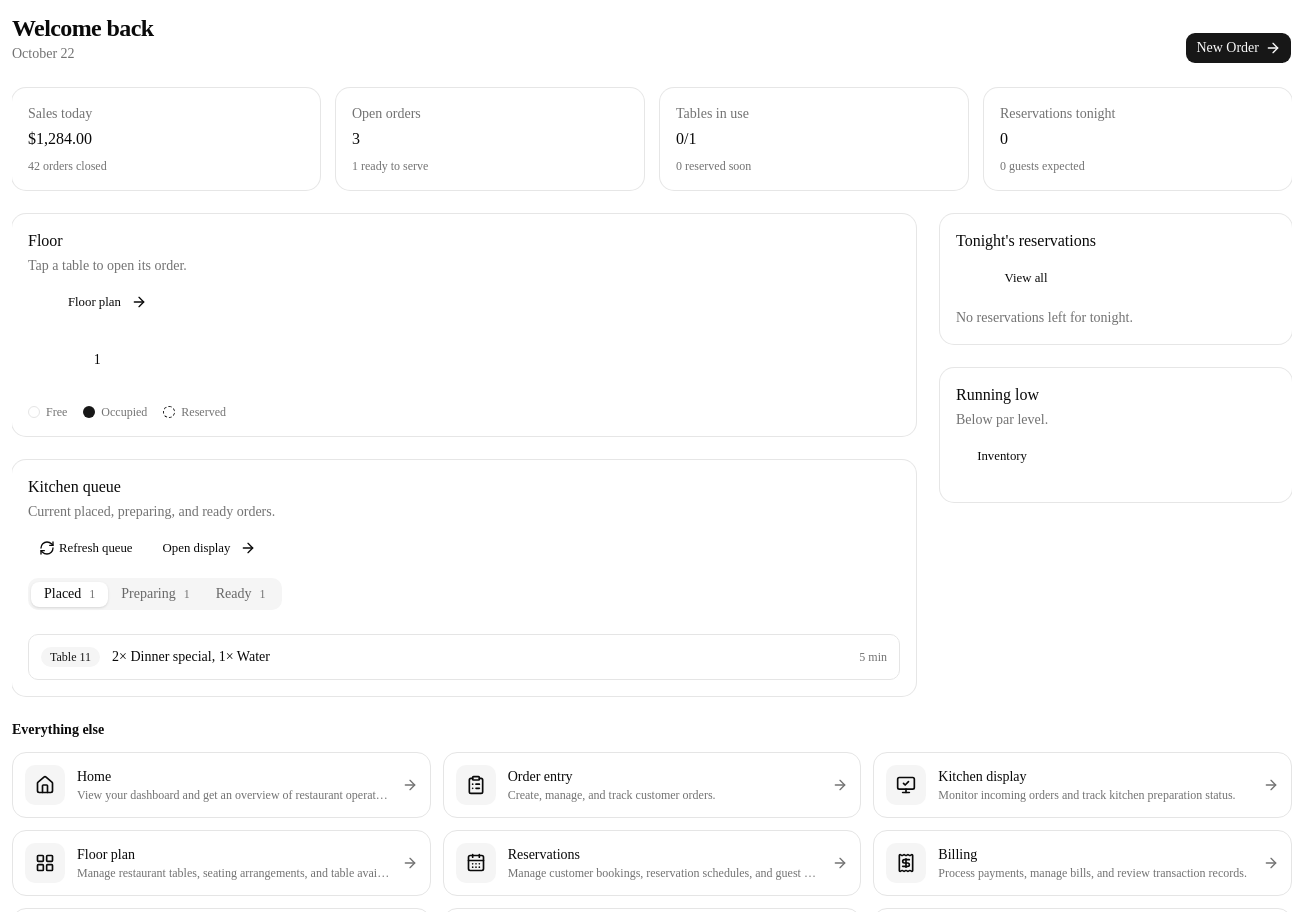
Test: loads actual tickets into Placed, Preparing, and Ready, with correct counts and item summaries
Check: the text "3" is shown, box 352,130 -> 360,147
Check: the icon "Table 11" is shown, box 41,647 -> 100,667
Click the tab "Preparing 1". click: (156, 594)
box: 108,582 -> 203,606
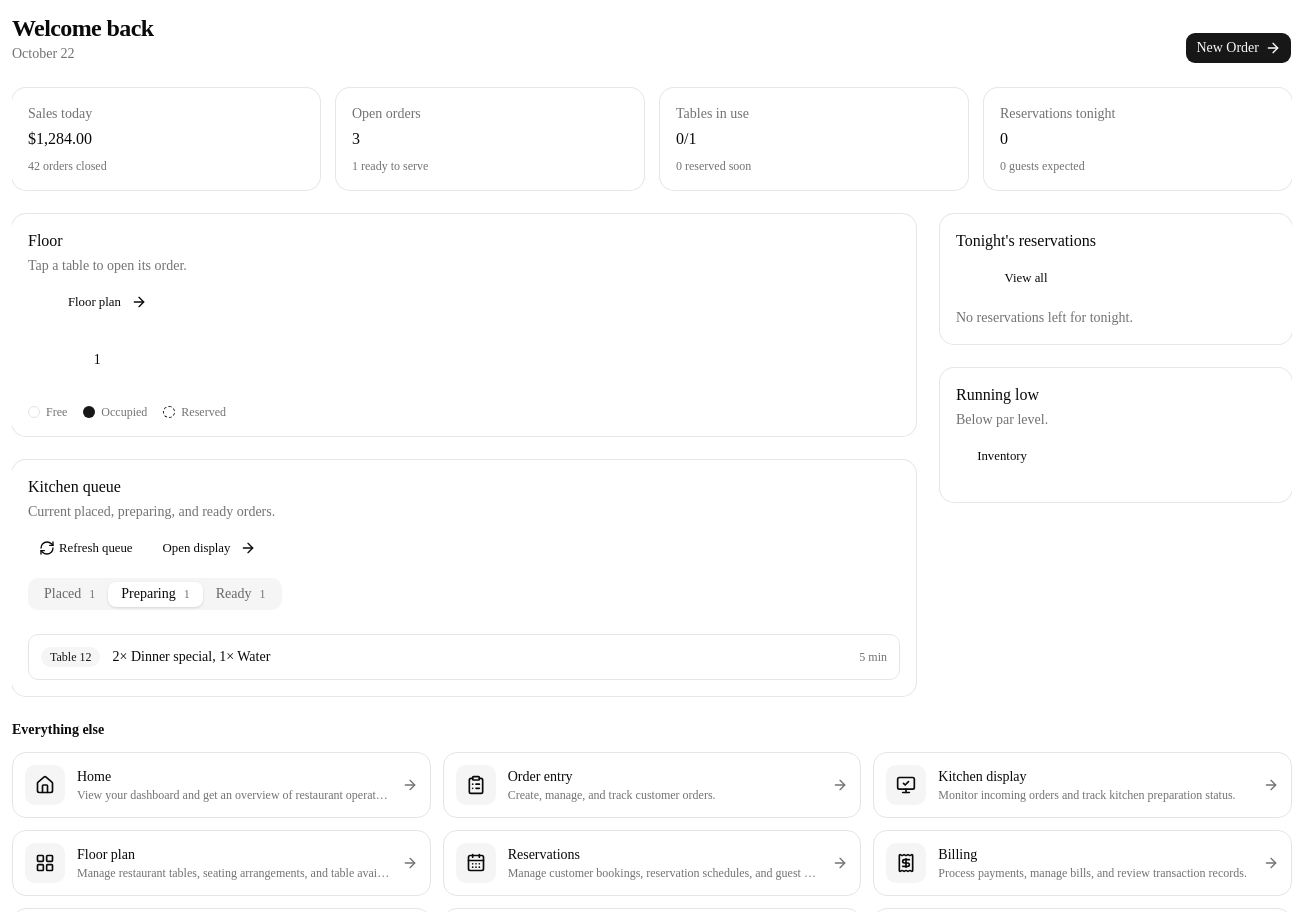
Check: the icon "Table 12" is shown, box 41,647 -> 100,667
Click the tab "Ready 1". click: (241, 594)
box: 203,582 -> 279,606
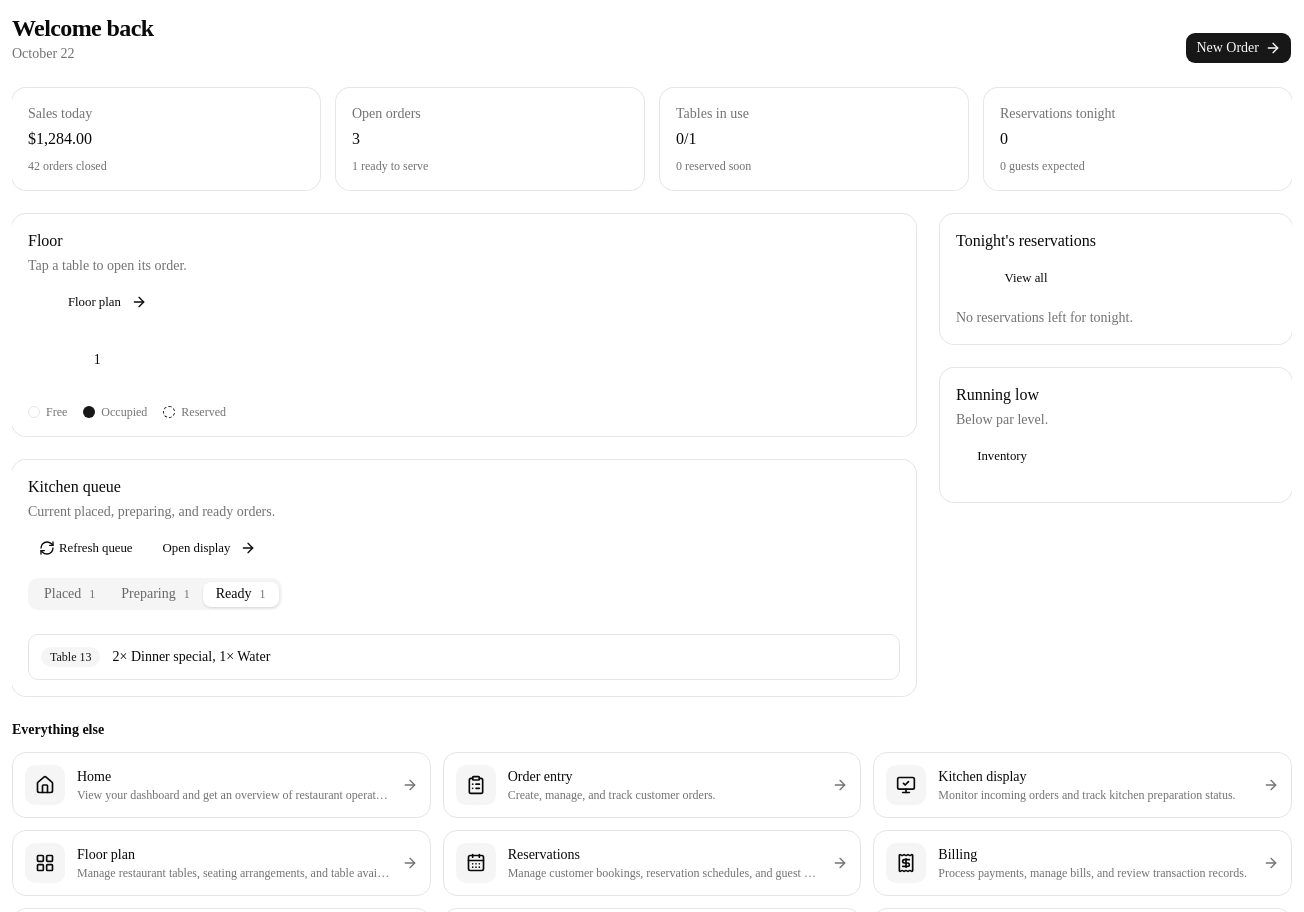
Check: the icon "Table 13" is shown, box 41,647 -> 100,667
